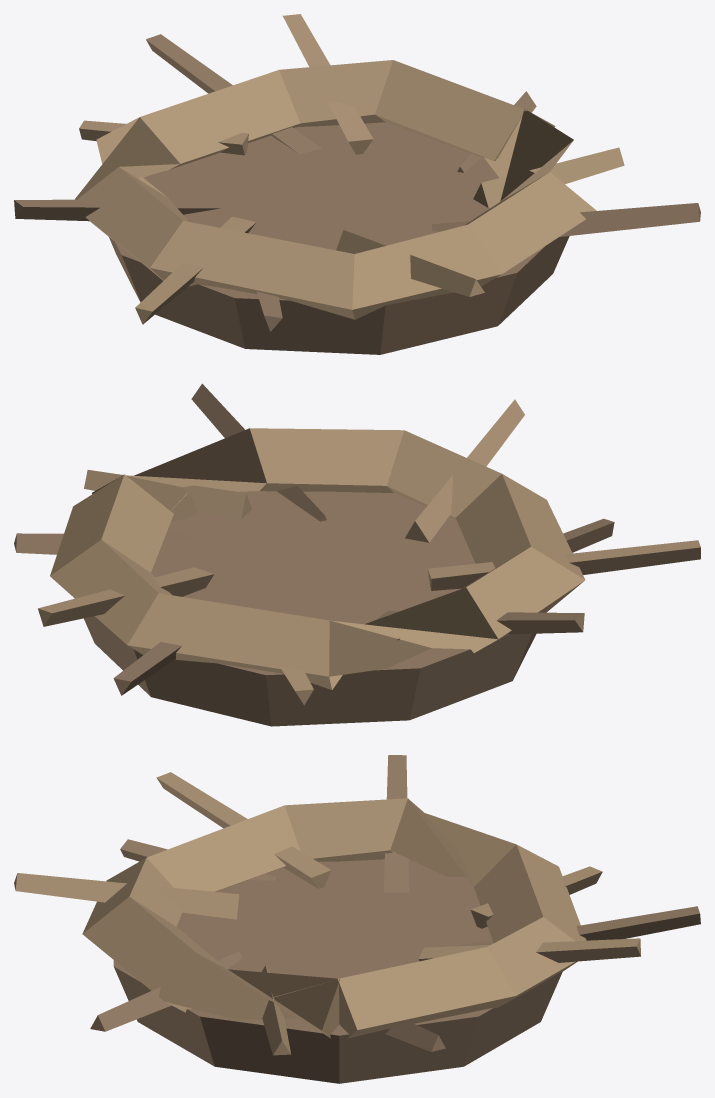
Rendered from stork-nest.glb.
3 renders of one model, top to bottom at view 1: azimuth 30°, elevation 25°; view 2: azimuth 150°, elevation 25°; view 3: azimuth 270°, elevation 25°, orthographic. The views are drawn at different scales.
Parts seen in each view (by area): view 1: Root_twigLight, Root_twig; view 2: Root_twigLight, Root_twig; view 3: Root_twigLight, Root_twig.
Boxes of the visible parts, x1,y1,x2,y2 form: Root_twigLight: (75, 14, 624, 324); Root_twig: (14, 34, 700, 354); Root_twigLight: (38, 399, 700, 704); Root_twig: (14, 383, 614, 726); Root_twigLight: (14, 772, 640, 1055); Root_twig: (90, 755, 700, 1083).
Size of the model in its own units: 0.4296 by 0.0868 by 0.4862.
